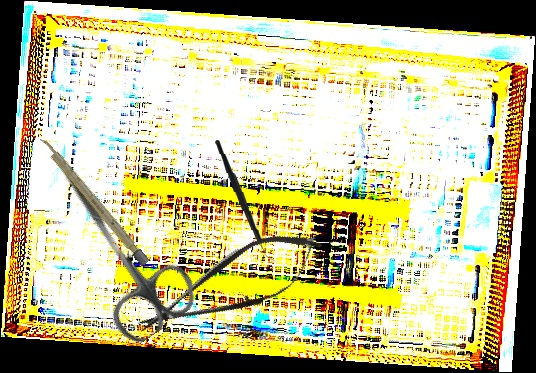Chopper: (214, 137, 277, 266)
Iris Scissors: (21, 140, 206, 350)
Micro Scissor: (125, 215, 335, 356)
Scalpel Handle: (37, 135, 150, 267)
